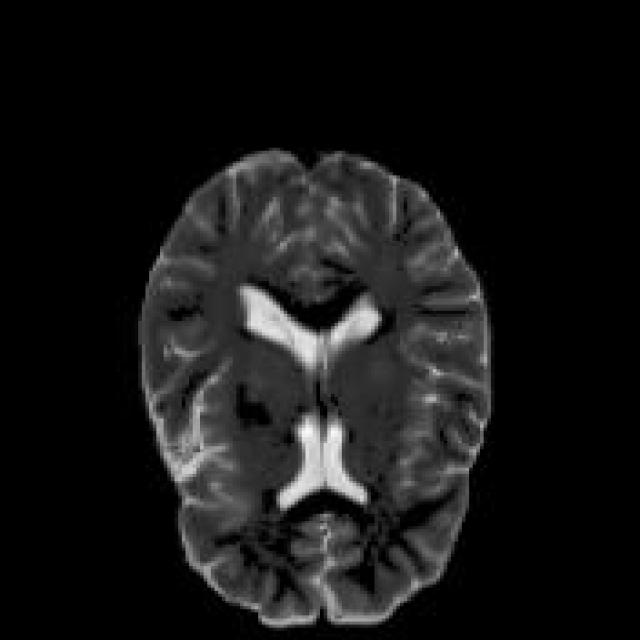parkinson: (134, 144, 494, 630)
